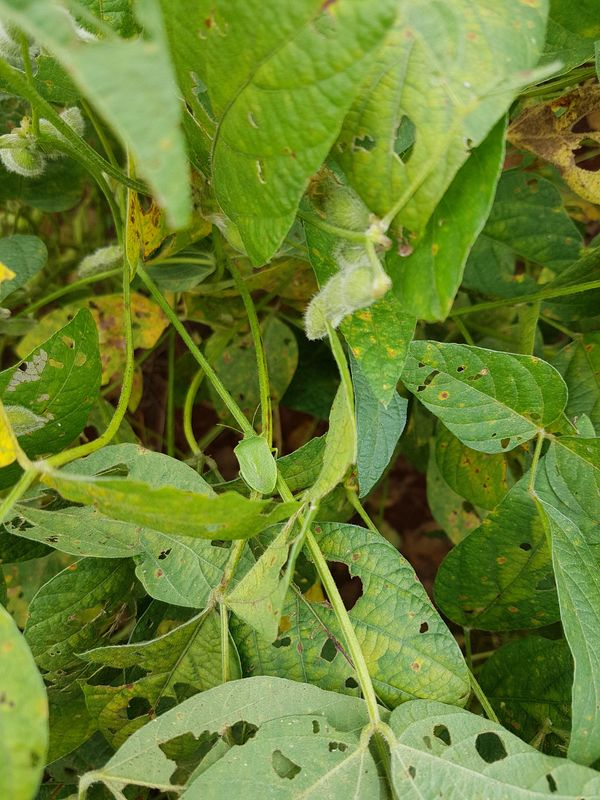Nezara_viridula_adulto: (209, 399, 292, 506)
